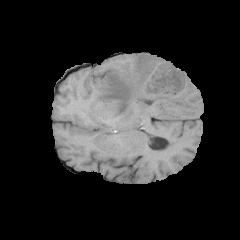glioma: (96, 53, 198, 121)
